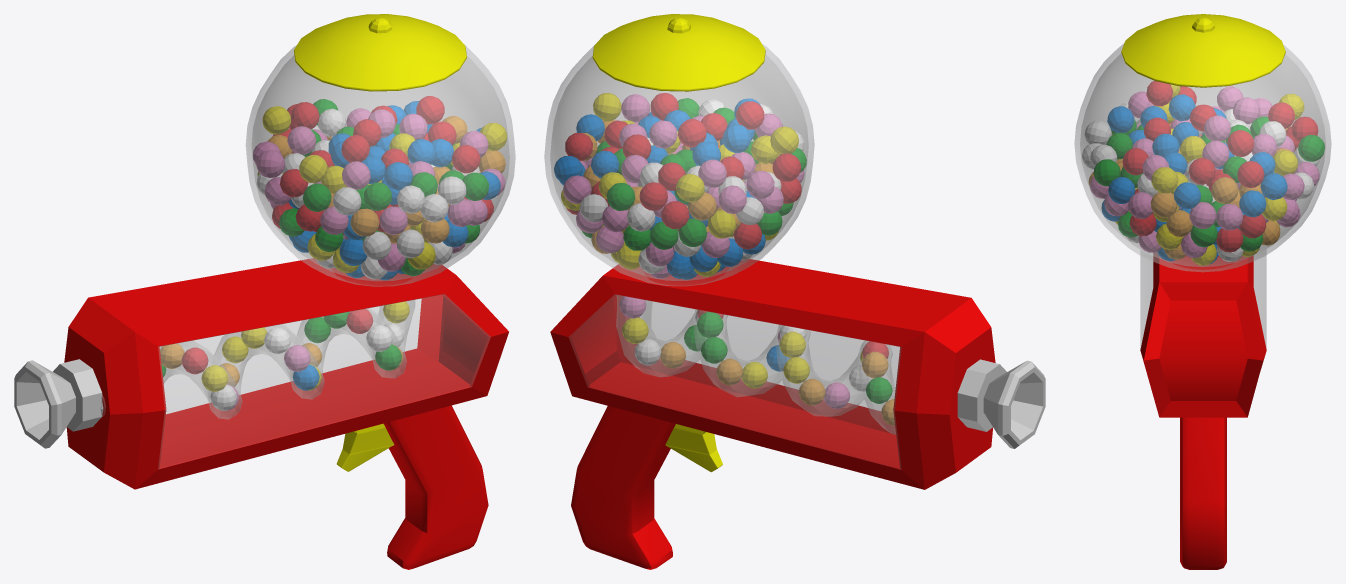
The model's file is bubblegun2.fbx.
3 views of the same model, side by side, from view 1: azimuth 30°, elevation 25°; view 2: azimuth 150°, elevation 25°; view 3: azimuth 270°, elevation 25° (orthographic). The views are drawn at different scales.
Parts seen in each view (by area): view 1: polySurface16, polySurface491, polySurface17, polySurface18, polySurface19, pSphere722, polySurface4, polySurface13, polySurface36, polySurface304, polySurface402, polySurface382 (+16 smaller); view 2: polySurface16, polySurface491, polySurface13, polySurface18, polySurface19, pSphere722, polySurface4, polySurface17, polySurface36, polySurface413, polySurface341, polySurface328 (+15 smaller); view 3: polySurface491, polySurface16, pSphere722, polySurface19, polySurface13, polySurface17, polySurface409, polySurface416, polySurface396, polySurface460, polySurface422, polySurface483 (+49 smaller).
Part boxes in pixels (x1,y1,x2,y2): polySurface16: (64,258,508,489); polySurface491: (245,44,515,286); polySurface17: (158,294,490,468); polySurface18: (101,300,414,419); polySurface19: (384,405,488,569); pSphere722: (294,14,466,91); polySurface4: (14,359,102,448); polySurface13: (164,299,420,413); polySurface36: (336,423,394,471); polySurface304: (333,187,361,215); polySurface402: (342,161,370,189); polySurface382: (397,229,424,258); polySurface16: (550,259,995,489); polySurface491: (544,44,814,286); polySurface13: (569,294,901,469); polySurface18: (616,295,895,434); polySurface19: (571,406,675,569); pSphere722: (592,14,765,91); polySurface4: (957,359,1045,448); polySurface17: (652,302,899,407); polySurface36: (665,424,722,472); polySurface413: (772,153,800,181); polySurface341: (639,182,667,210); polySurface328: (676,174,704,202); polySurface491: (1074,43,1331,272); polySurface16: (1140,134,1266,417); pSphere722: (1121,14,1285,87); polySurface19: (1180,417,1226,569); polySurface13: (1253,250,1266,348); polySurface17: (1140,250,1153,348); polySurface409: (1211,177,1238,203); polySurface416: (1239,190,1266,217); polySurface396: (1237,161,1264,187); polySurface460: (1188,157,1215,184); polySurface422: (1298,135,1324,161); polySurface483: (1107,106,1134,132).
Bounding box in the file's own units: 11.36 × 12.84 × 5.74.
